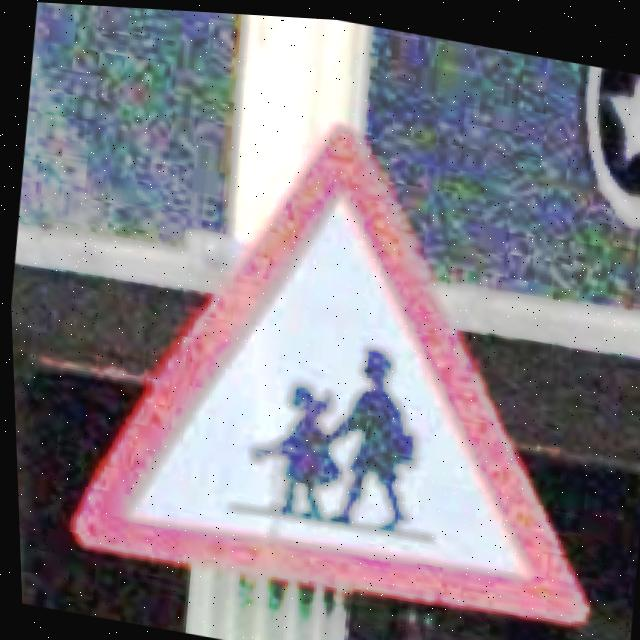childrencross: (71, 123, 578, 614)
